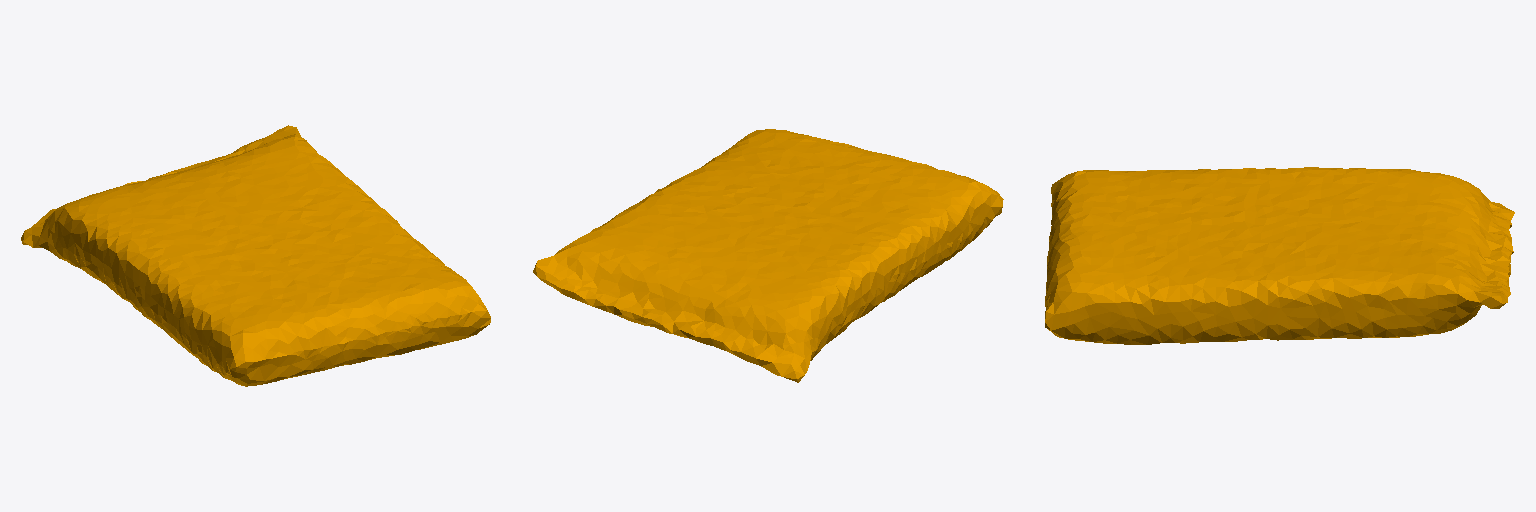
robot.urdf — sponge:
<?xml version="1.0" encoding="UTF-8"?>
<robot name="sponge">
	<link name="base">
		<collision>
			<geometry>
				<mesh filename="sponge.obj"/>
			</geometry>
			<origin xyz="0 0 0"/>
		</collision>
		<visual>
			<geometry>
				<mesh filename="sponge.obj"/>
			</geometry>
			<origin xyz="0 0 0"/>
		</visual>
		<inertial>
			<mass value="0.0062"/>
			<inertia ixx="5.46638744565462e-06" ixy="-2.9755468096001948e-08" ixz="-3.759687446780247e-08" iyy="2.6929589529389462e-06" iyz="-5.342555045290627e-08" izz="7.906318010571705e-06" />
			<origin xyz="-0.0004932996838707175 -0.002243342696425425 -0.0002437015085486139"/>
		</inertial>
	</link>
</robot>

--- What the picture shows (computed from the rendered views, not written in the file) ---
3 views of the same robot in one strip: view 1: azimuth 30°, elevation 25°; view 2: azimuth 150°, elevation 25°; view 3: azimuth 270°, elevation 25° (orthographic).
Model sponge with 1 links and 0 joints (none), rooted at base, posed every joint at zero.
Visible links, largest first — view 1: base; view 2: base; view 3: base.
Boxes of the visible links, x1=… form: base: x1=21, y1=125, x2=490, y2=386; base: x1=533, y1=129, x2=1003, y2=382; base: x1=1045, y1=167, x2=1514, y2=344.
Size in the robot's own frame: 0.0789 by 0.1122 by 0.0186 metres.
Meshes: 1 distinct files referenced, 1 mesh visuals loaded (1 OBJ).